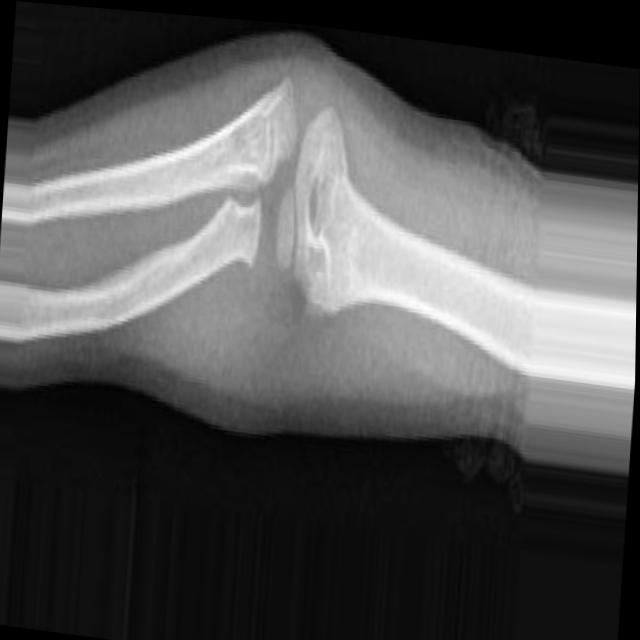fracture: (232, 165, 303, 315)
